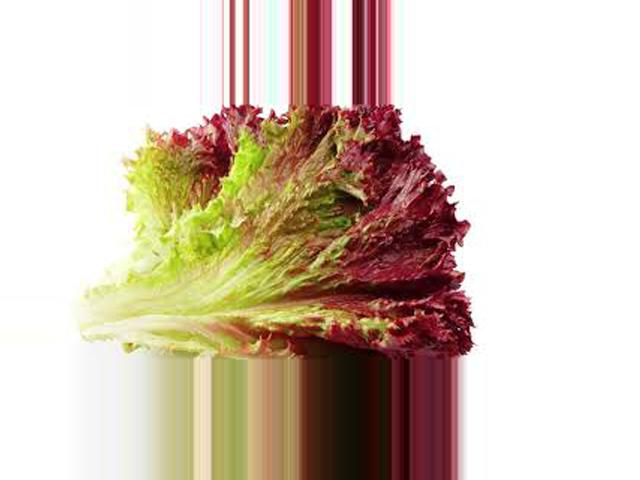lettuce: (65, 109, 495, 358)
